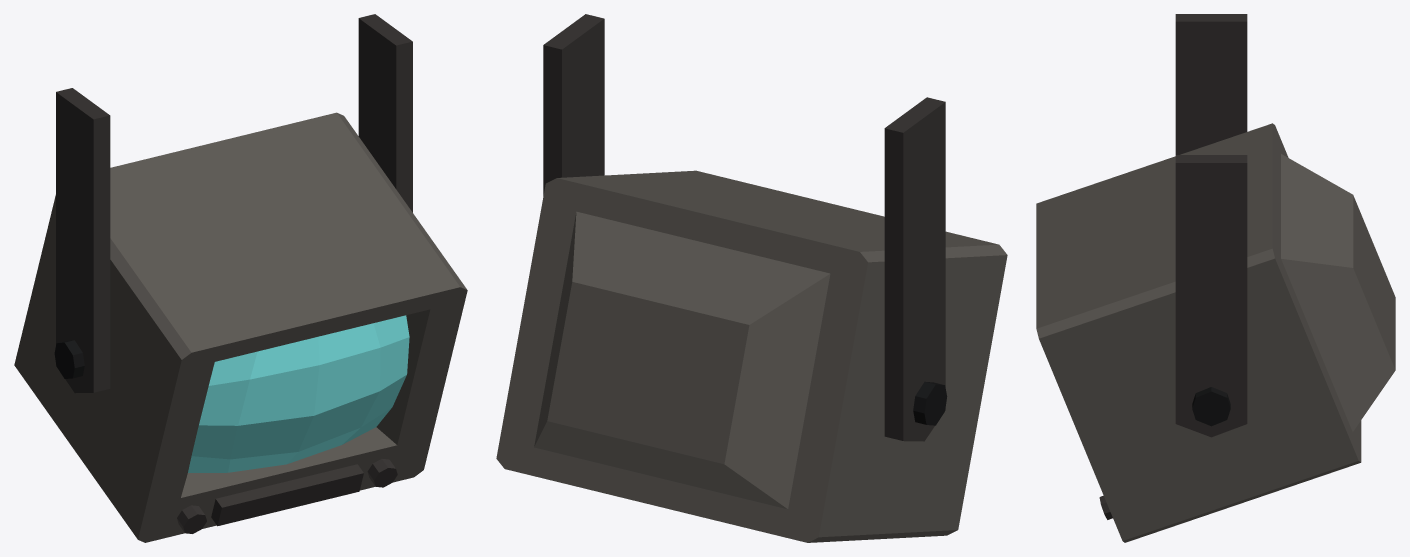
Rendered from WallTV.fbx.
3 views of the same model, side by side, from view 1: azimuth 30°, elevation 25°; view 2: azimuth 150°, elevation 25°; view 3: azimuth 270°, elevation 25° (orthographic). The views are drawn at different scales.
Visible parts, largest first — view 1: BigTV; view 2: BigTV; view 3: BigTV.
Part boxes in pixels (x1=…): BigTV: x1=14, y1=14, x2=467, y2=542; BigTV: x1=496, y1=14, x2=1007, y2=542; BigTV: x1=1036, y1=14, x2=1395, y2=542.
Size of the model in its own units: 127 by 146 by 122.
